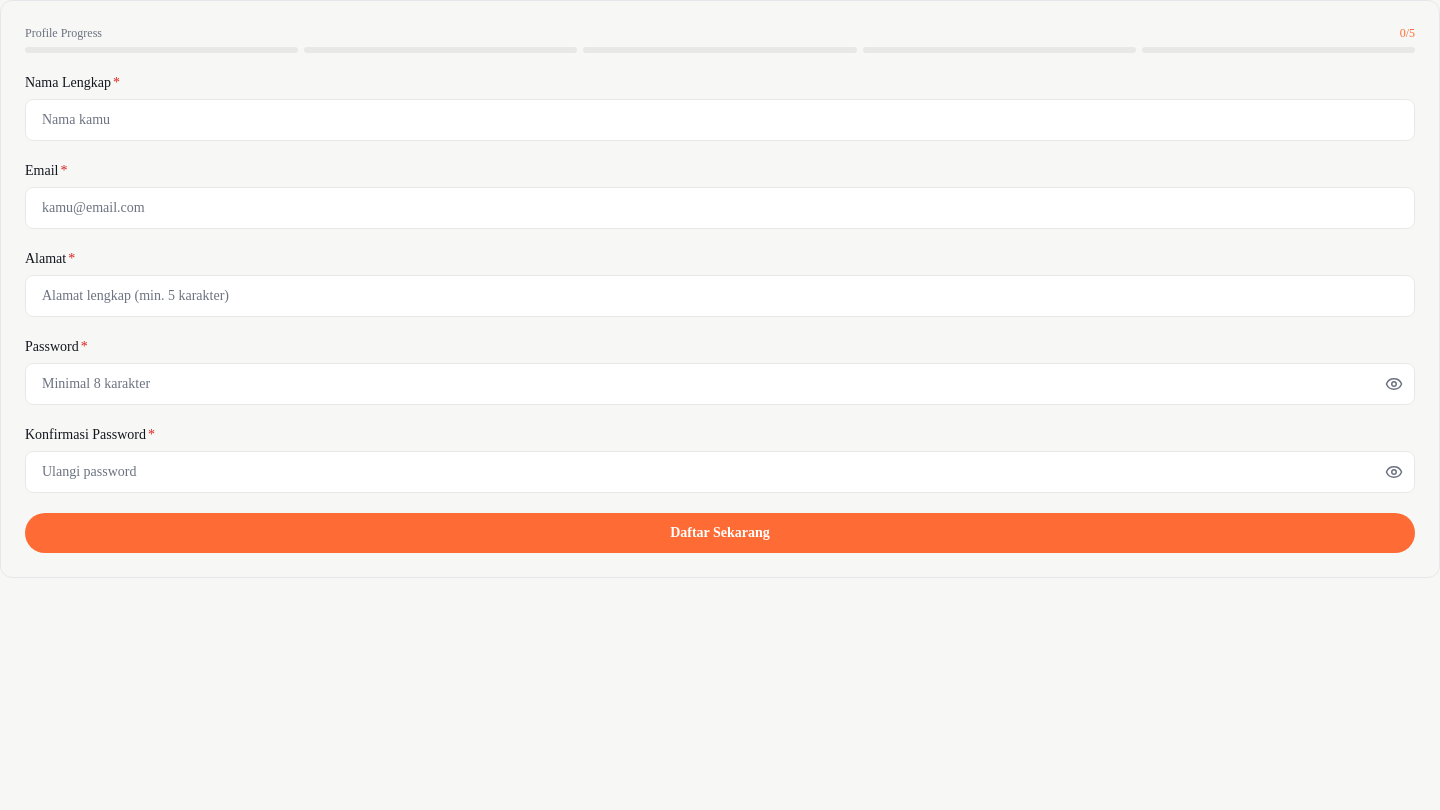
Scenario: RegisterForm › shows a generic error when registration cannot continue
Step 1. Type "Andi Pelajar" into the field labelled "Nama Lengkap*" → (720, 120), box [25, 99, 1415, 141]
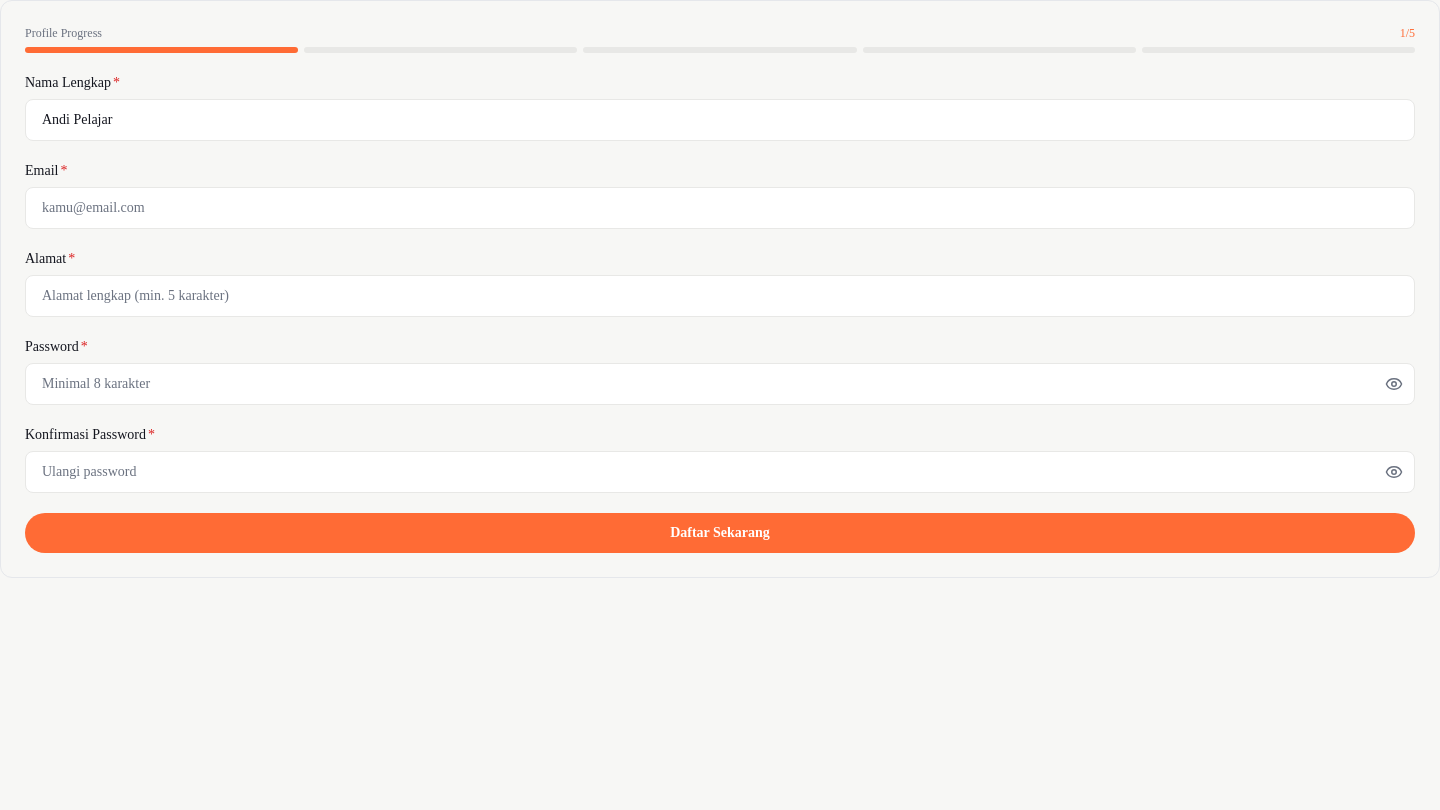
Step 2. Type "andi@example.com" into the field labelled "Email*" → (720, 208), box [25, 187, 1415, 229]
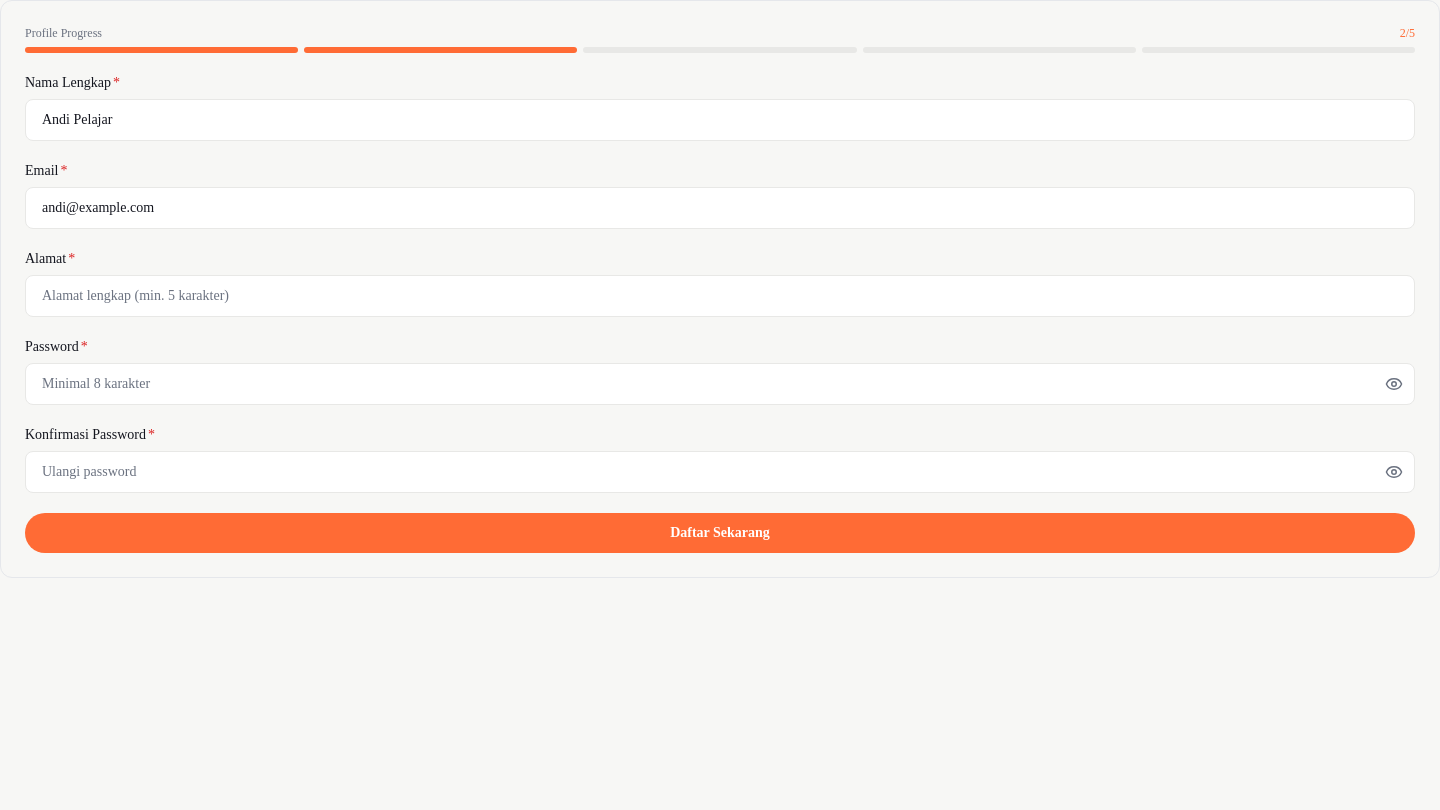
Step 3. Type "Jalan Merdeka 10" into the field labelled "Alamat*" → (720, 296), box [25, 275, 1415, 317]
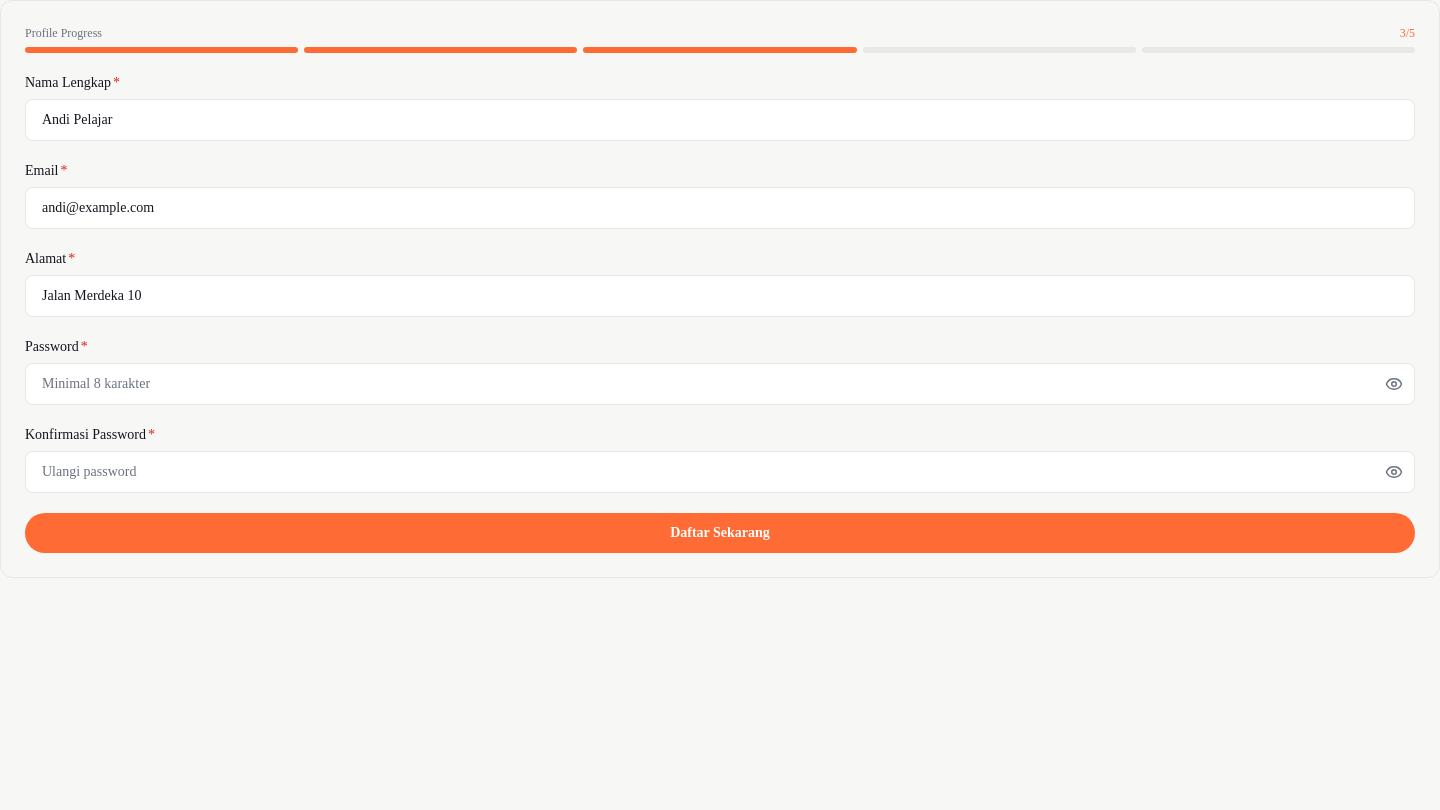
Step 4. Type "Password123!" into the password field labelled "Password*" → (720, 384), box [25, 363, 1415, 405]
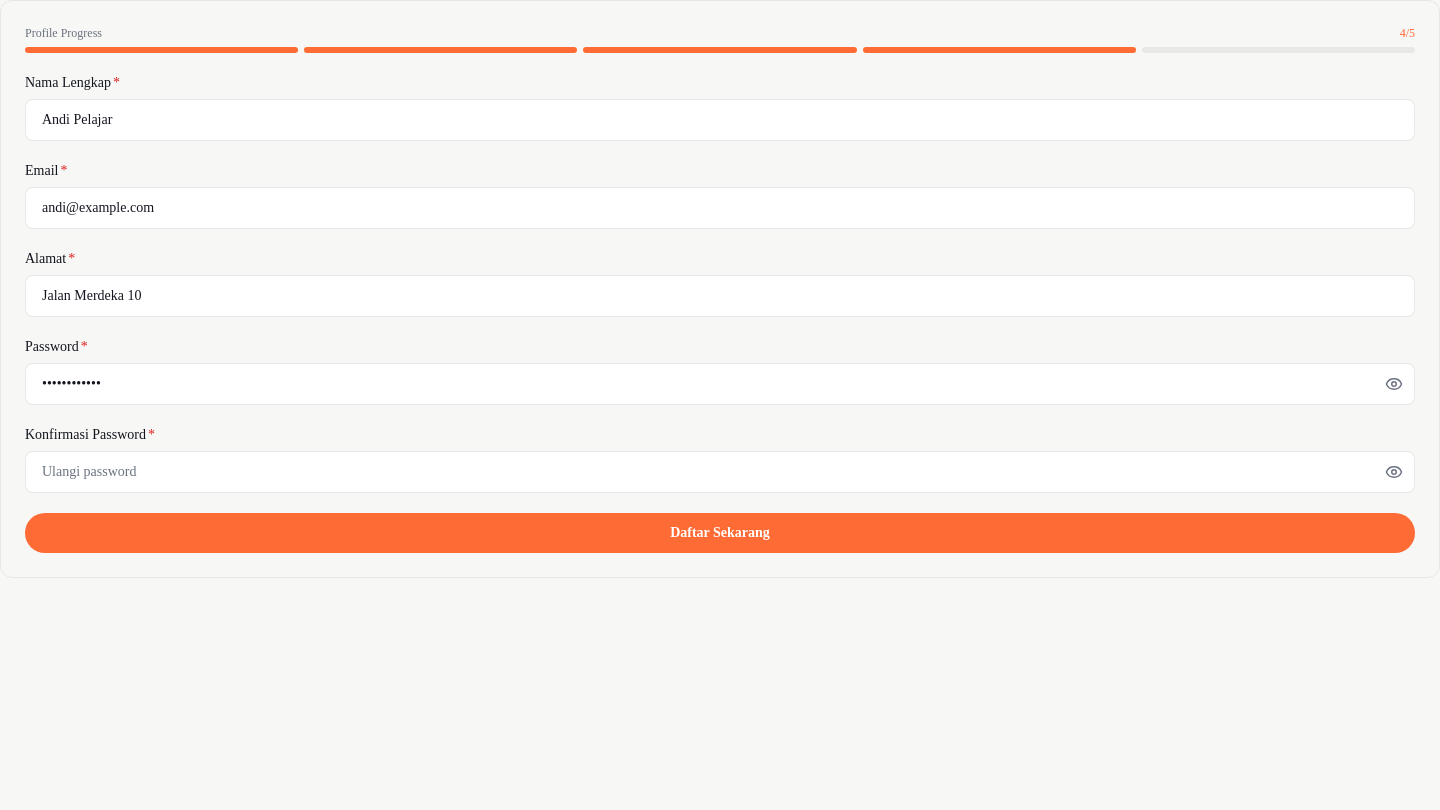
Step 5. Type "Password123!" into the password field labelled "Konfirmasi Password*" → (720, 472), box [25, 451, 1415, 493]
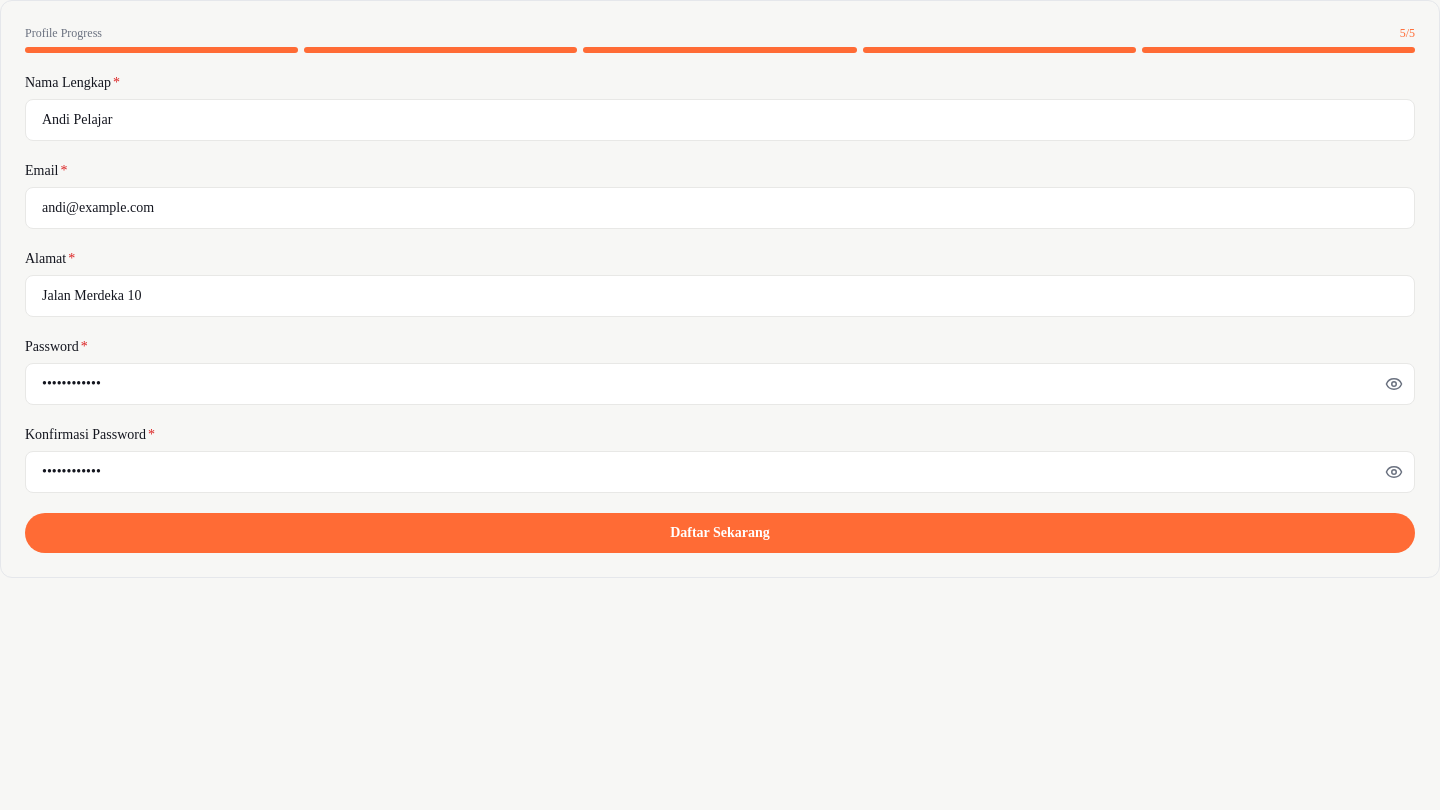
Step 6. Click the button "Daftar Sekarang" → (720, 533), box [25, 513, 1415, 553]
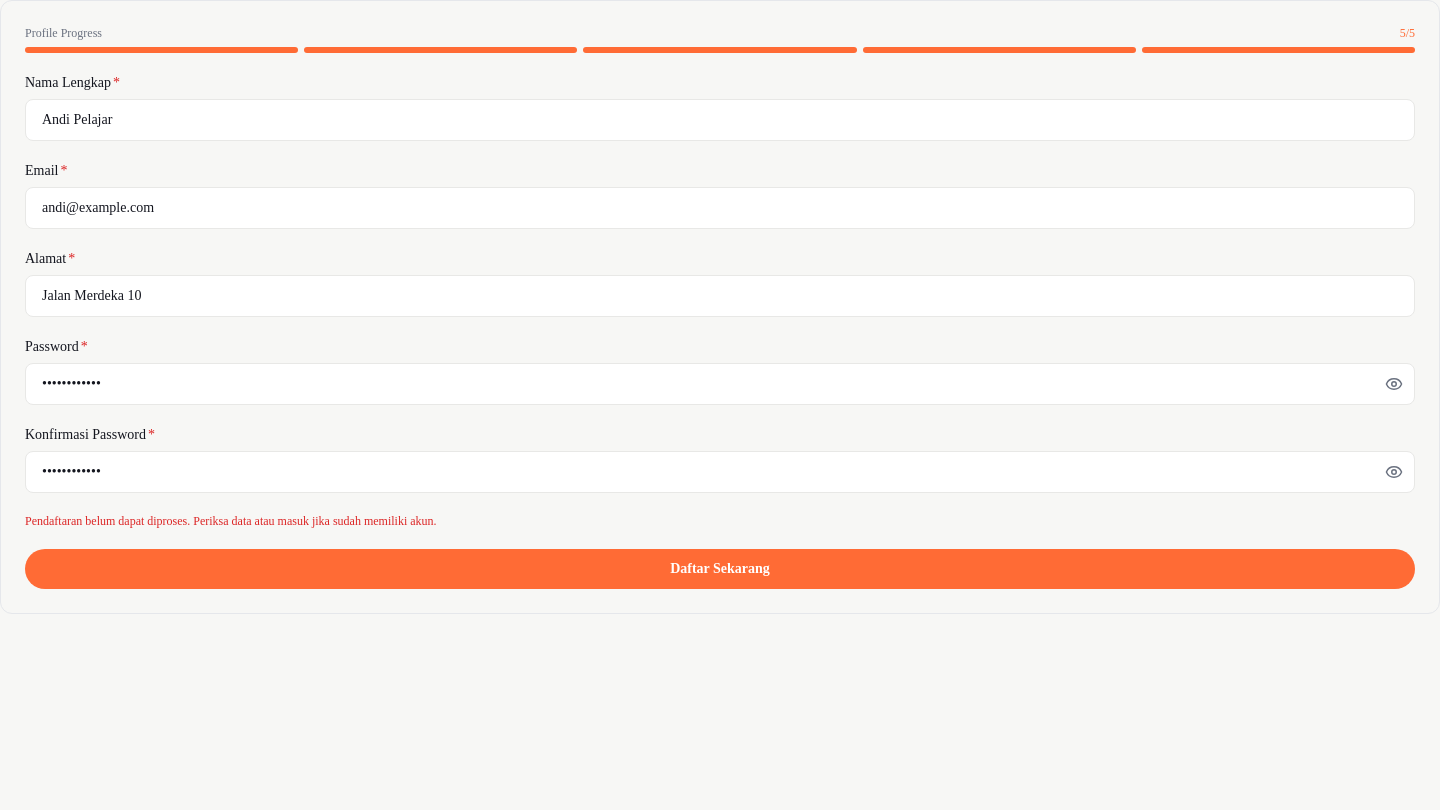
Now the text "Pendaftaran belum dapat diproses" is shown, box [25, 514, 437, 528]
